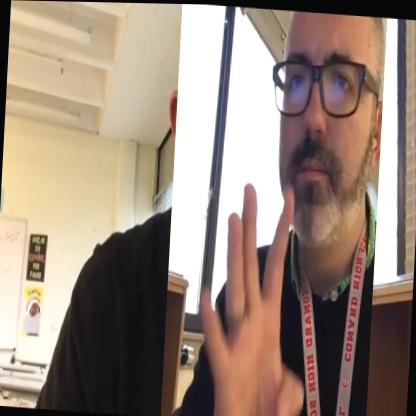Talk: (160, 3, 386, 416)
